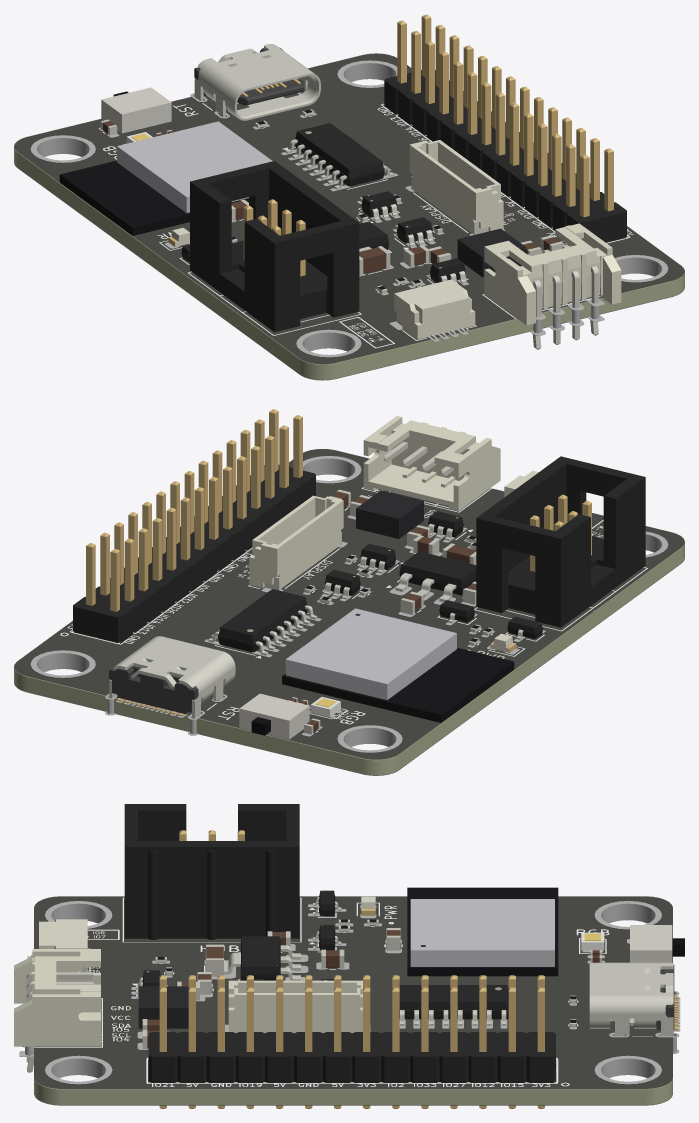
Rendered from lms-esp32.glb.
3 views of the same model, one above another, from view 1: azimuth 30°, elevation 25°; view 2: azimuth 150°, elevation 25°; view 3: azimuth 270°, elevation 25° (orthographic). The views are drawn at different scales.
Parts seen in each view (by area): view 1: =>[0:1:1:46], =>[0:1:1:44], =>[0:1:1:25], =>[0:1:1:27], =>[0:1:1:5], =>[0:1:1:39], =>[0:1:1:42], =>[0:1:1:21], =>[0:1:1:19], =>[0:1:1:11], =>[0:1:1:35], =>[0:1:1:23] (+6 smaller); view 2: =>[0:1:1:46], =>[0:1:1:44], =>[0:1:1:25], =>[0:1:1:27], =>[0:1:1:5], =>[0:1:1:39], =>[0:1:1:21], =>[0:1:1:42], =>[0:1:1:19], =>[0:1:1:11], =>[0:1:1:9], =>[0:1:1:43] (+5 smaller); view 3: =>[0:1:1:46], =>[0:1:1:44], =>[0:1:1:25], =>[0:1:1:27], =>[0:1:1:5], =>[0:1:1:39], =>[0:1:1:42], =>[0:1:1:21], =>[0:1:1:19], =>[0:1:1:11], =>[0:1:1:43], =>[0:1:1:9] (+6 smaller).
Part boxes in pixels (bbox=[...]): =>[0:1:1:46]: bbox=[14, 54, 684, 379]; =>[0:1:1:44]: bbox=[14, 53, 684, 364]; =>[0:1:1:25]: bbox=[384, 14, 626, 242]; =>[0:1:1:27]: bbox=[190, 161, 359, 332]; =>[0:1:1:5]: bbox=[59, 121, 272, 235]; =>[0:1:1:39]: bbox=[484, 223, 621, 349]; =>[0:1:1:42]: bbox=[30, 60, 668, 357]; =>[0:1:1:21]: bbox=[194, 44, 320, 120]; =>[0:1:1:19]: bbox=[409, 140, 503, 234]; =>[0:1:1:11]: bbox=[285, 123, 394, 189]; =>[0:1:1:35]: bbox=[394, 279, 475, 339]; =>[0:1:1:23]: bbox=[101, 87, 171, 133]; =>[0:1:1:46]: bbox=[14, 450, 684, 775]; =>[0:1:1:44]: bbox=[14, 449, 684, 759]; =>[0:1:1:25]: bbox=[73, 409, 315, 642]; =>[0:1:1:27]: bbox=[476, 456, 645, 627]; =>[0:1:1:5]: bbox=[282, 608, 514, 722]; =>[0:1:1:39]: bbox=[363, 416, 500, 511]; =>[0:1:1:21]: bbox=[109, 636, 235, 718]; =>[0:1:1:42]: bbox=[30, 456, 668, 752]; =>[0:1:1:19]: bbox=[249, 495, 343, 590]; =>[0:1:1:11]: bbox=[208, 589, 317, 655]; =>[0:1:1:9]: bbox=[395, 551, 476, 601]; =>[0:1:1:43]: bbox=[60, 487, 647, 732]; =>[0:1:1:46]: bbox=[34, 897, 672, 1104]; =>[0:1:1:44]: bbox=[34, 896, 672, 1088]; =>[0:1:1:25]: bbox=[148, 975, 555, 1108]; =>[0:1:1:27]: bbox=[124, 804, 299, 939]; =>[0:1:1:5]: bbox=[407, 887, 558, 976]; =>[0:1:1:39]: bbox=[14, 949, 100, 1072]; =>[0:1:1:42]: bbox=[19, 901, 680, 1084]; =>[0:1:1:21]: bbox=[589, 962, 678, 1036]; =>[0:1:1:19]: bbox=[228, 980, 362, 1033]; =>[0:1:1:11]: bbox=[399, 985, 508, 1025]; =>[0:1:1:43]: bbox=[34, 897, 652, 1086]; =>[0:1:1:9]: bbox=[224, 936, 300, 980].
Size of the model in its own units: 0.0398 by 0.0125 by 0.0586.
